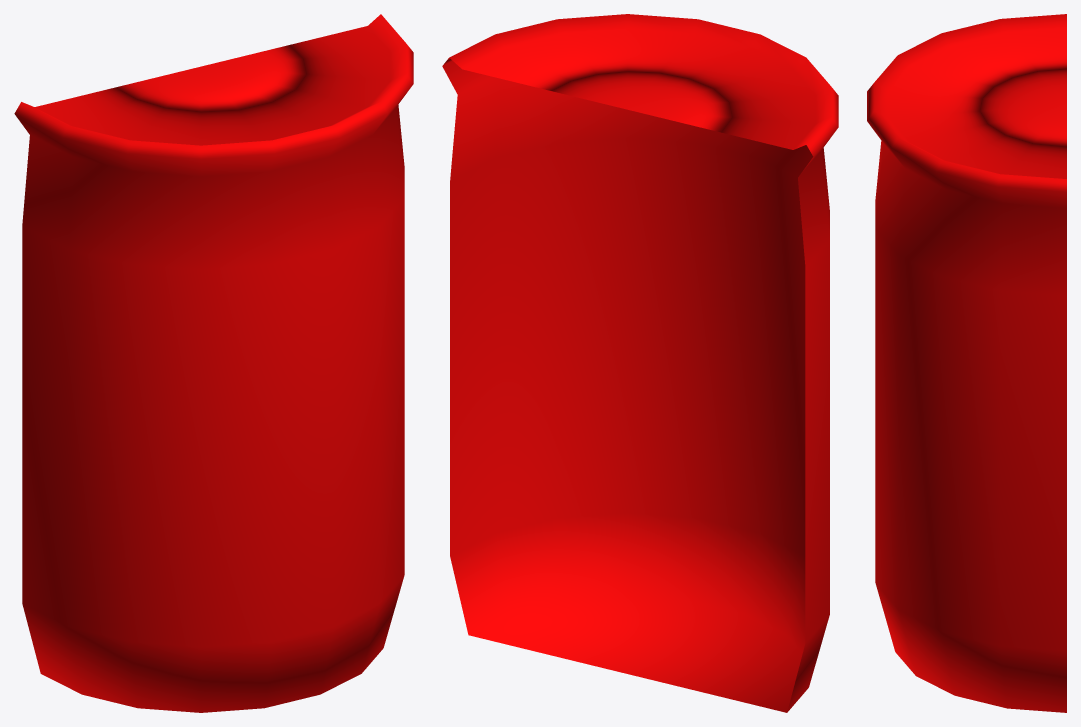
File: red_barrel.dae
3 views of the same model, side by side, from view 1: azimuth 30°, elevation 25°; view 2: azimuth 150°, elevation 25°; view 3: azimuth 270°, elevation 25° (orthographic). The views are drawn at different scales.
Parts seen in each view (by area): view 1: Plane; view 2: Plane; view 3: Plane.
Part boxes in pixels (x1,y1,x2,y2): Plane: (14, 14, 413, 712); Plane: (442, 14, 838, 712); Plane: (867, 14, 1066, 712).
Size of the model in its own units: 0.6056 by 0.2982 by 0.8934.
